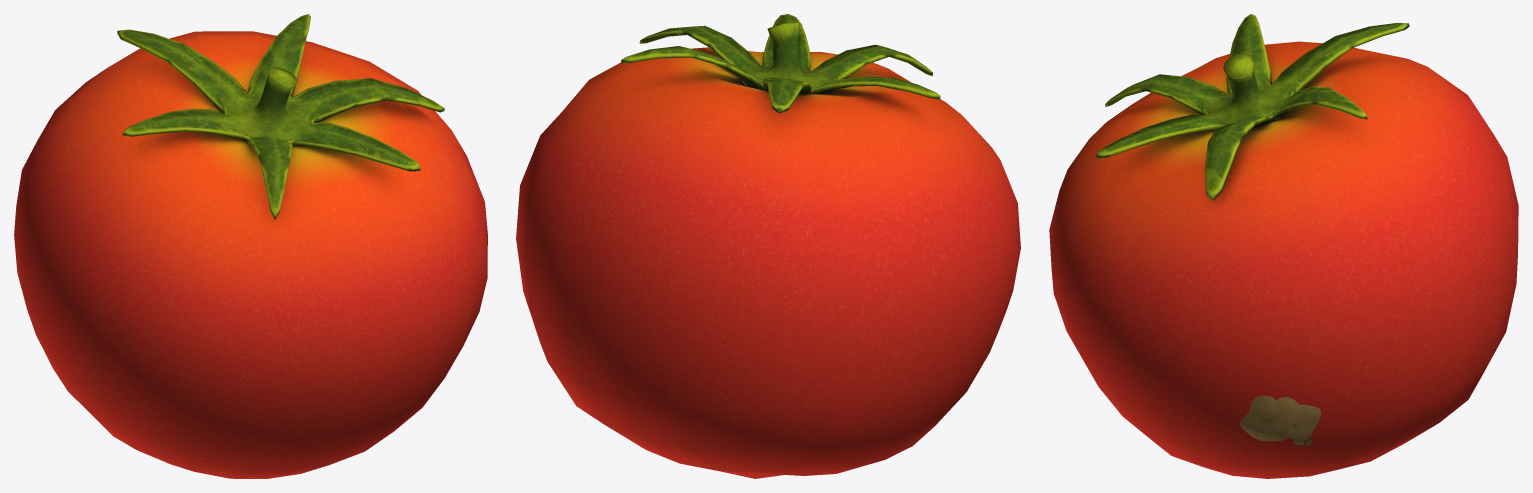
The model's file is tomate.glb.
3 views of the same model, side by side, from view 1: azimuth 30°, elevation 25°; view 2: azimuth 150°, elevation 25°; view 3: azimuth 270°, elevation 25° (orthographic). The views are drawn at different scales.
Visible parts, largest first — view 1: T_trn_Tomato; view 2: T_trn_Tomato; view 3: T_trn_Tomato, Mball.000_Mesh.001.
Part boxes in pixels (x1=…): T_trn_Tomato: x1=14, y1=14, x2=487, y2=478; T_trn_Tomato: x1=516, y1=14, x2=1020, y2=478; T_trn_Tomato: x1=1049, y1=14, x2=1518, y2=478; Mball.000_Mesh.001: x1=1240, y1=395, x2=1321, y2=445.
Size of the model in its own units: 1.12 by 1.04 by 1.12.
Materials: 2 (2 with a texture image).
